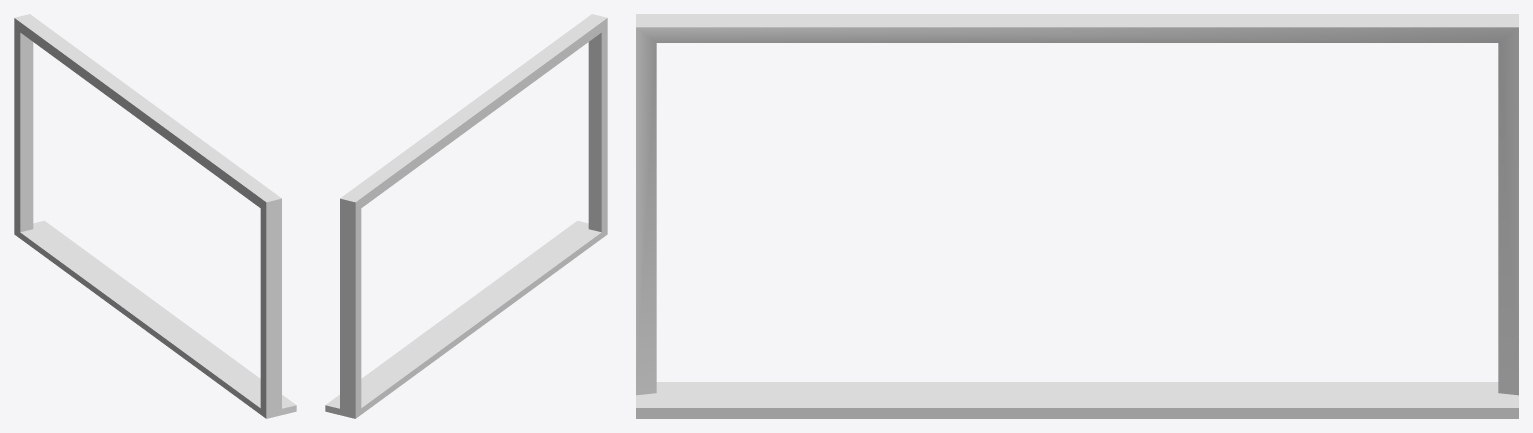
File: window_frame.FBX
3 views of the same model, side by side, from view 1: azimuth 30°, elevation 25°; view 2: azimuth 150°, elevation 25°; view 3: azimuth 270°, elevation 25° (orthographic). The views are drawn at different scales.
Visible parts, largest first — view 1: window_frame; view 2: window_frame; view 3: window_frame.
Part boxes in pixels (x1=…): window_frame: x1=14, y1=14, x2=296, y2=418; window_frame: x1=325, y1=14, x2=607, y2=418; window_frame: x1=636, y1=14, x2=1518, y2=418.
Size of the model in its own units: 11.07 by 75.68 by 160.
